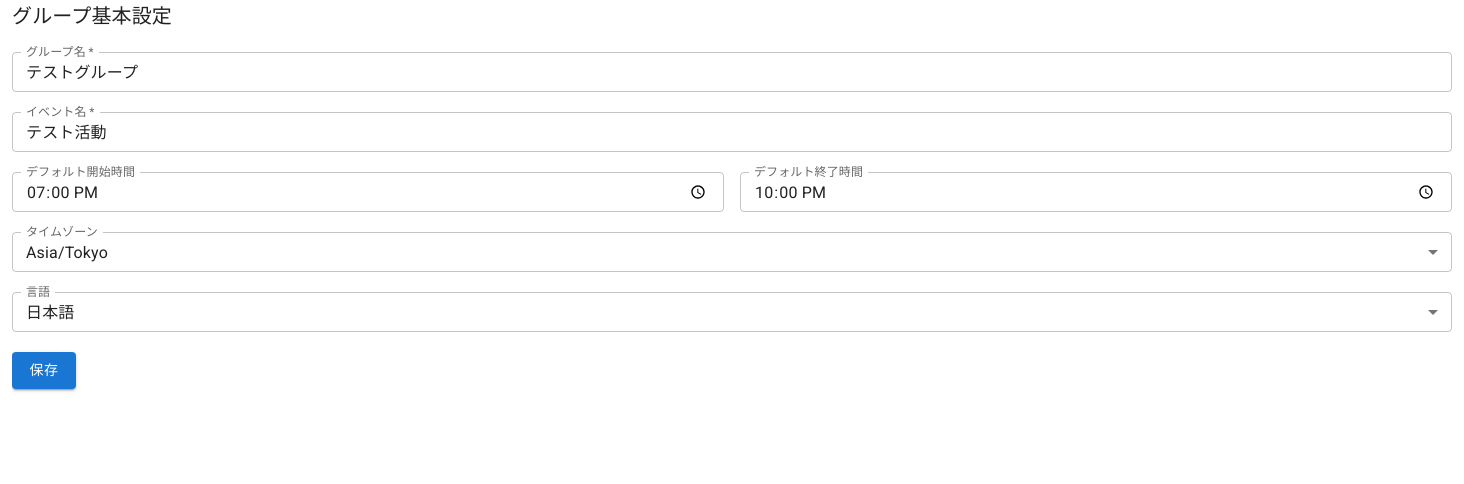
Test: GroupSettingsForm › グループ名が空の場合はエラーが表示される
Clear the field labelled "グループ名 *": [732, 72] box x1=12 y1=52 x2=1452 y2=92
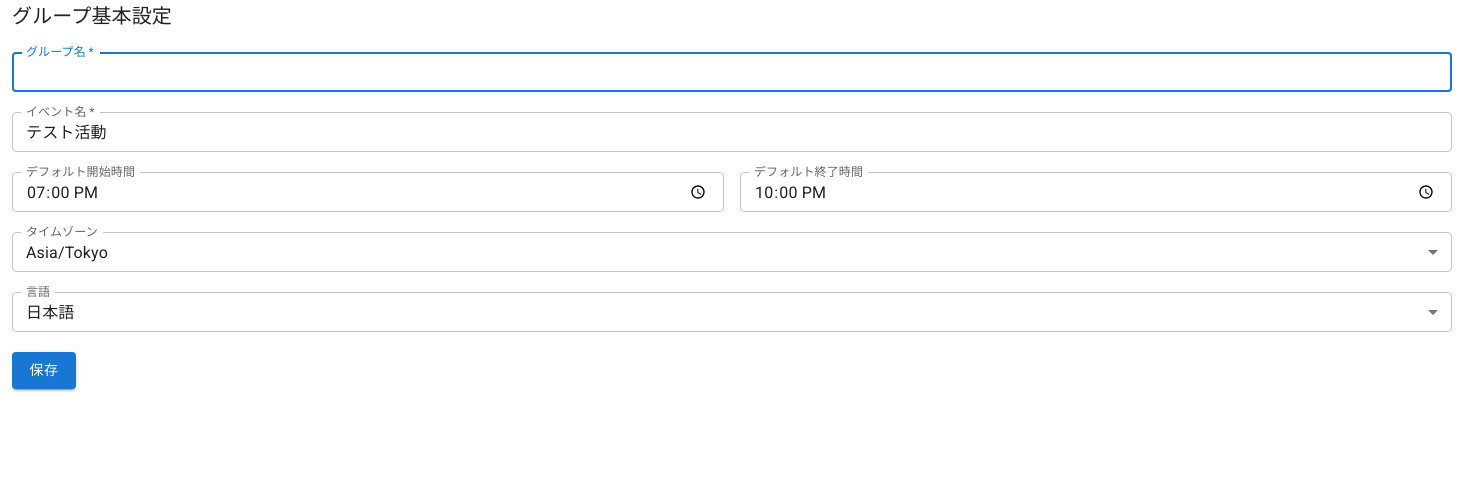
Click the button "保存": [44, 370] box x1=12 y1=352 x2=76 y2=388
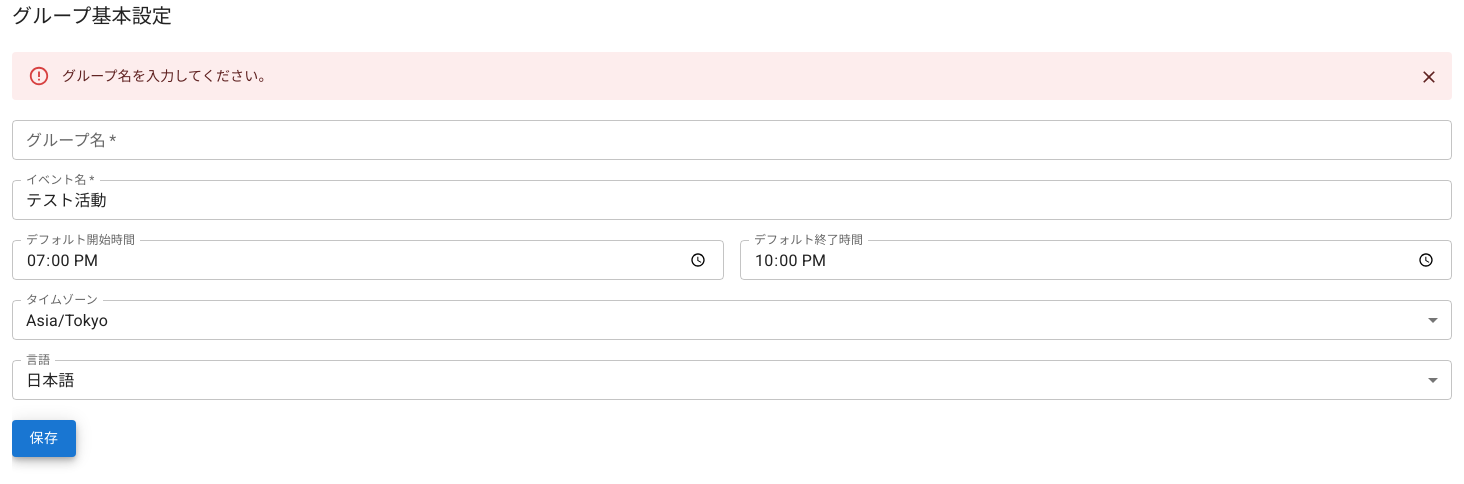
Expected: the text "グループ名を入力してください。" is shown, x1=62 y1=68 x2=273 y2=84
